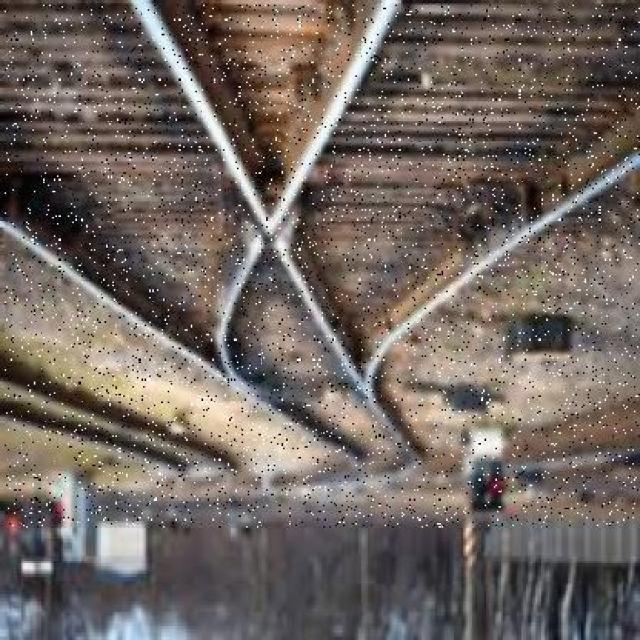rail: (6, 6, 640, 529)
